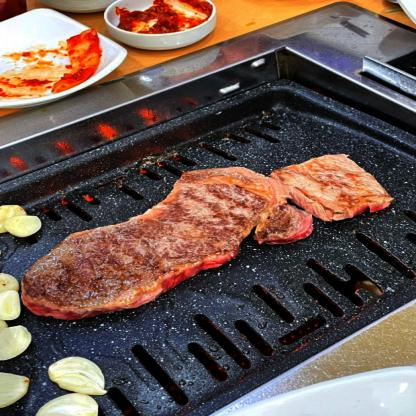Carne: (18, 148, 394, 320)
